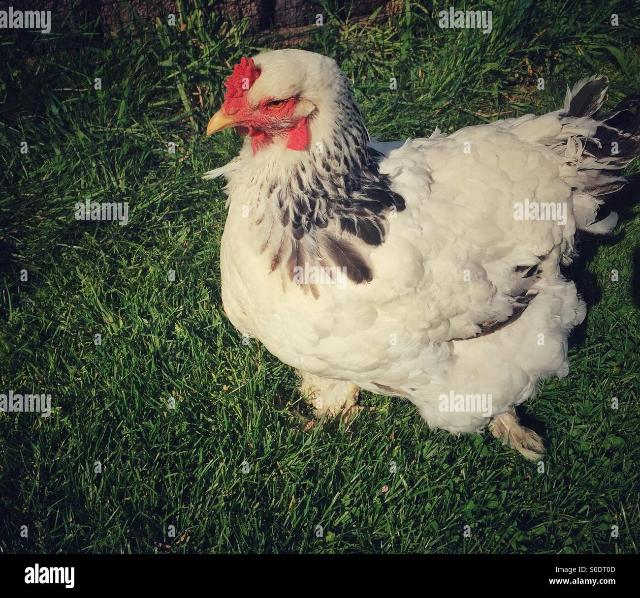Chicken: (205, 48, 640, 461)
